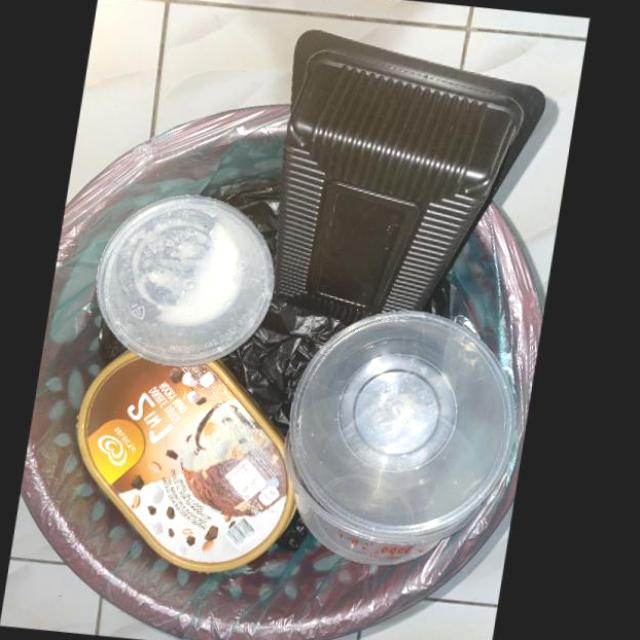hop_nhua: (274, 25, 554, 323), (289, 308, 521, 563), (80, 345, 302, 571), (98, 190, 280, 361)
